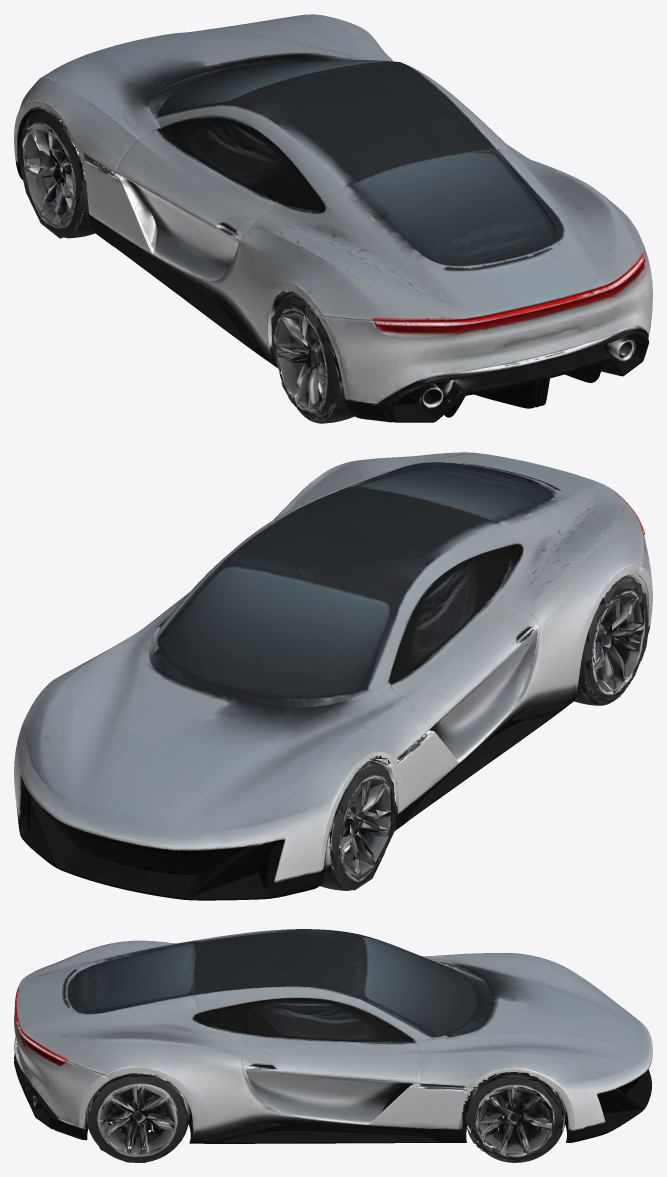
File: roadster_mobilehi.glb
3 renders of one model, top to bottom at view 1: azimuth 30°, elevation 25°; view 2: azimuth 150°, elevation 25°; view 3: azimuth 270°, elevation 25°, orthographic. The views are drawn at different scales.
Visible parts, largest first — view 1: body, wheel_FL, wheel_RL; view 2: body, wheel_FL, wheel_RL; view 3: body, wheel_RR, wheel_FR.
Boxes of the visible parts, box(x1,y1,x2,y2) form: body: box(14, 14, 652, 423); wheel_FL: box(17, 107, 91, 238); wheel_RL: box(271, 290, 341, 421); body: box(14, 452, 652, 900); wheel_FL: box(329, 757, 396, 890); wheel_RL: box(578, 574, 648, 705); body: box(14, 929, 652, 1162); wheel_RR: box(88, 1073, 189, 1162); wheel_FR: box(464, 1071, 562, 1162).
Size of the model in its own units: 1.83 by 1.12 by 4.2.
Materials: 1 (1 with a texture image).
